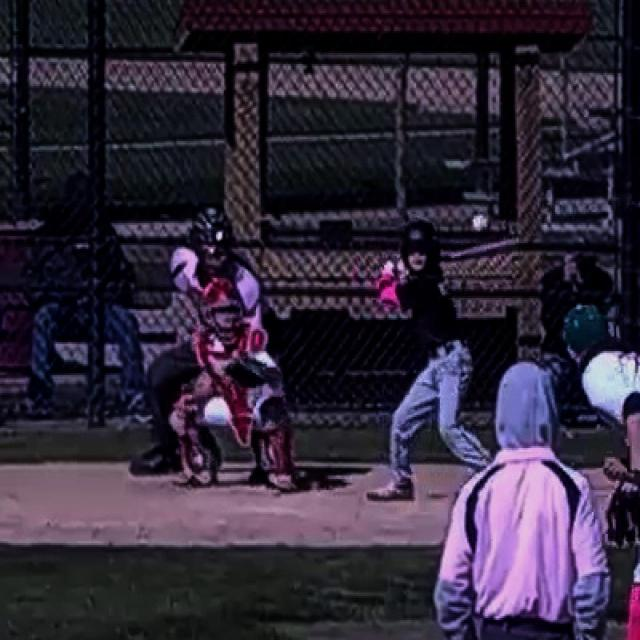baseball: (474, 216, 488, 230)
